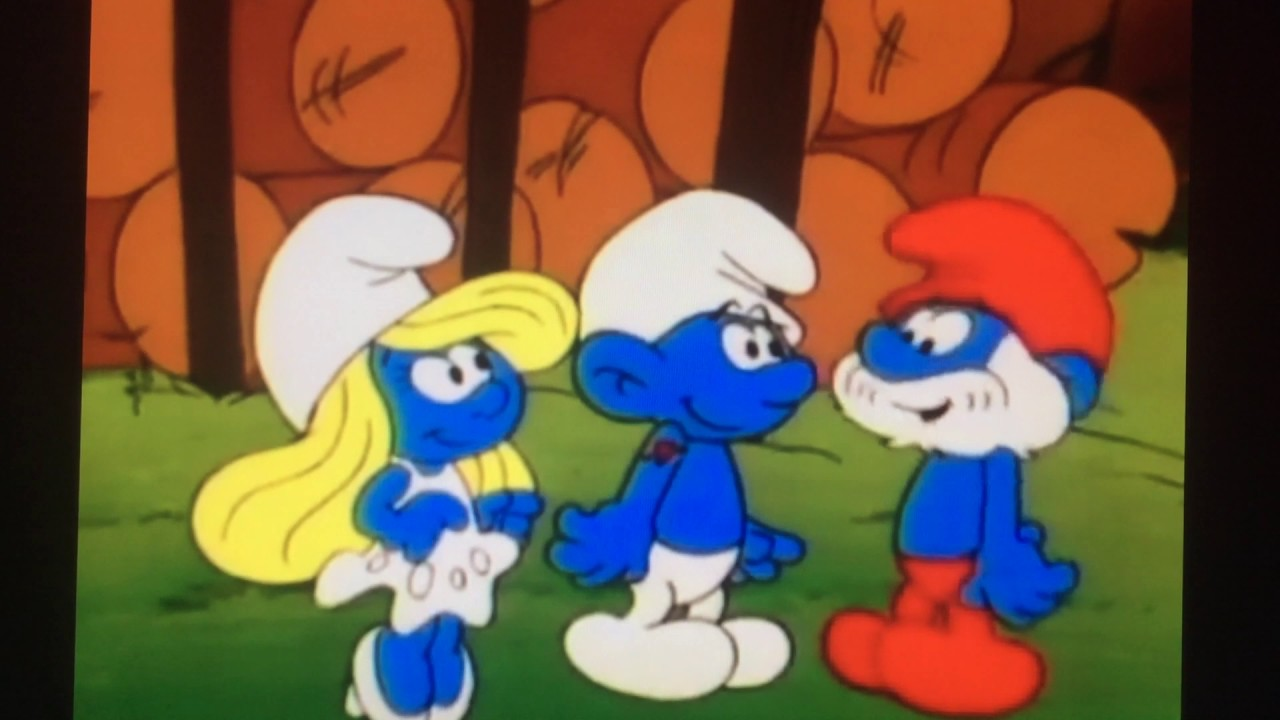smurf: (192, 195, 578, 717), (830, 192, 1117, 718), (546, 184, 815, 705)
